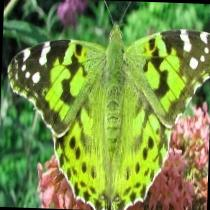butterfly: (8, 25, 210, 210)
